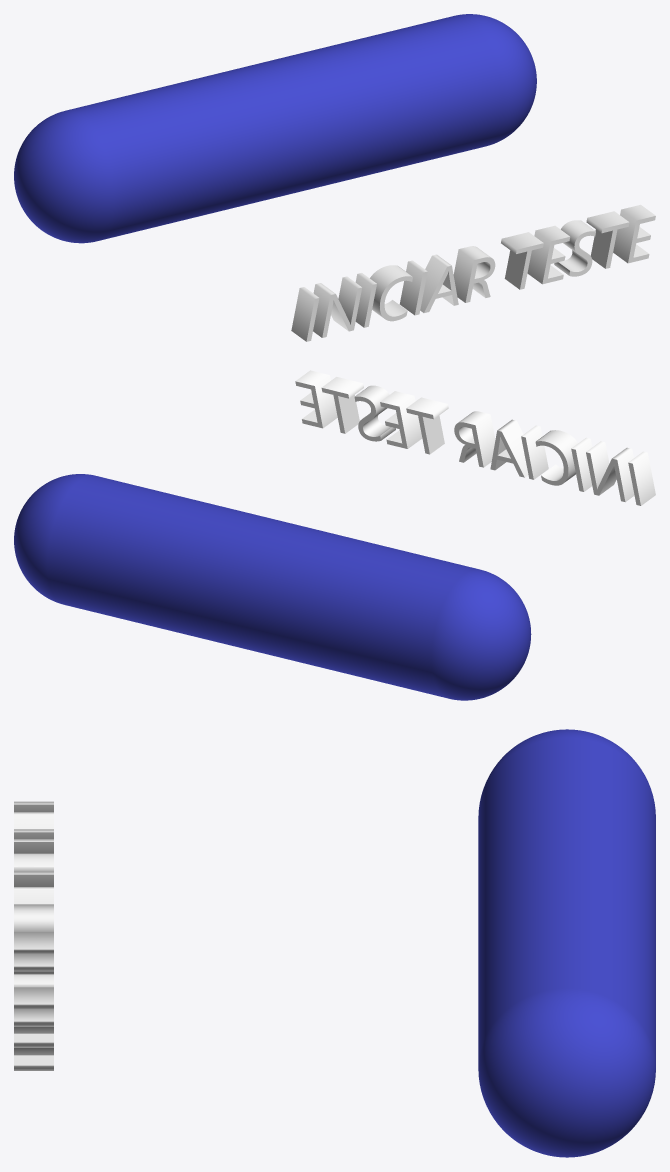
The model's file is emp.fbx.
The picture shows the model from 3 angles, top to bottom: view 1: azimuth 30°, elevation 25°; view 2: azimuth 150°, elevation 25°; view 3: azimuth 270°, elevation 25°; orthographic projection. The views are drawn at different scales.
Parts seen in each view (by area): view 1: mesh_id27, mesh_id214, mesh_id218, mesh_id212, mesh_id221, mesh_id217, mesh_id211, mesh_id220, mesh_id215, mesh_id219, mesh_id209, mesh_id216 (+1 smaller); view 2: mesh_id27, mesh_id214, mesh_id218, mesh_id221, mesh_id212, mesh_id217, mesh_id211, mesh_id215, mesh_id220, mesh_id219, mesh_id209, mesh_id216 (+1 smaller); view 3: mesh_id27, mesh_id221, mesh_id218, mesh_id214, mesh_id211, mesh_id212, mesh_id220, mesh_id215, mesh_id217, mesh_id216.
Part boxes in pixels (left/top/right/bottom): mesh_id27: left=14, top=14, right=536, bottom=243; mesh_id214: left=313, top=276, right=362, bottom=337; mesh_id218: left=453, top=246, right=495, bottom=302; mesh_id212: left=527, top=225, right=570, bottom=284; mesh_id221: left=613, top=204, right=655, bottom=263; mesh_id217: left=420, top=254, right=458, bottom=312; mesh_id211: left=501, top=232, right=543, bottom=289; mesh_id220: left=586, top=211, right=629, bottom=268; mesh_id215: left=370, top=265, right=412, bottom=321; mesh_id219: left=554, top=220, right=595, bottom=276; mesh_id209: left=291, top=287, right=319, bottom=341; mesh_id216: left=399, top=260, right=427, bottom=315; mesh_id27: left=14, top=474, right=531, bottom=700; mesh_id214: left=586, top=441, right=634, bottom=502; mesh_id218: left=454, top=411, right=495, bottom=467; mesh_id221: left=295, top=370, right=337, bottom=428; mesh_id212: left=380, top=391, right=422, bottom=448; mesh_id217: left=490, top=419, right=528, bottom=477; mesh_id211: left=406, top=397, right=448, bottom=454; mesh_id215: left=535, top=430, right=577, bottom=485; mesh_id220: left=321, top=377, right=363, bottom=433; mesh_id219: left=354, top=385, right=395, bottom=441; mesh_id209: left=628, top=451, right=655, bottom=505; mesh_id216: left=521, top=425, right=548, bottom=479; mesh_id27: left=478, top=729, right=655, bottom=1157; mesh_id221: left=14, top=1009, right=53, bottom=1070; mesh_id218: left=14, top=904, right=53, bottom=931; mesh_id214: left=14, top=812, right=53, bottom=838; mesh_id211: left=14, top=932, right=53, bottom=953; mesh_id212: left=14, top=953, right=53, bottom=974; mesh_id220: left=14, top=987, right=53, bottom=1008; mesh_id215: left=14, top=853, right=53, bottom=871; mesh_id217: left=14, top=887, right=53, bottom=904; mesh_id216: left=14, top=871, right=53, bottom=886.
Size of the model in its own units: 289 by 66.63 by 241.
Materials: 2 (2 with a texture image).
